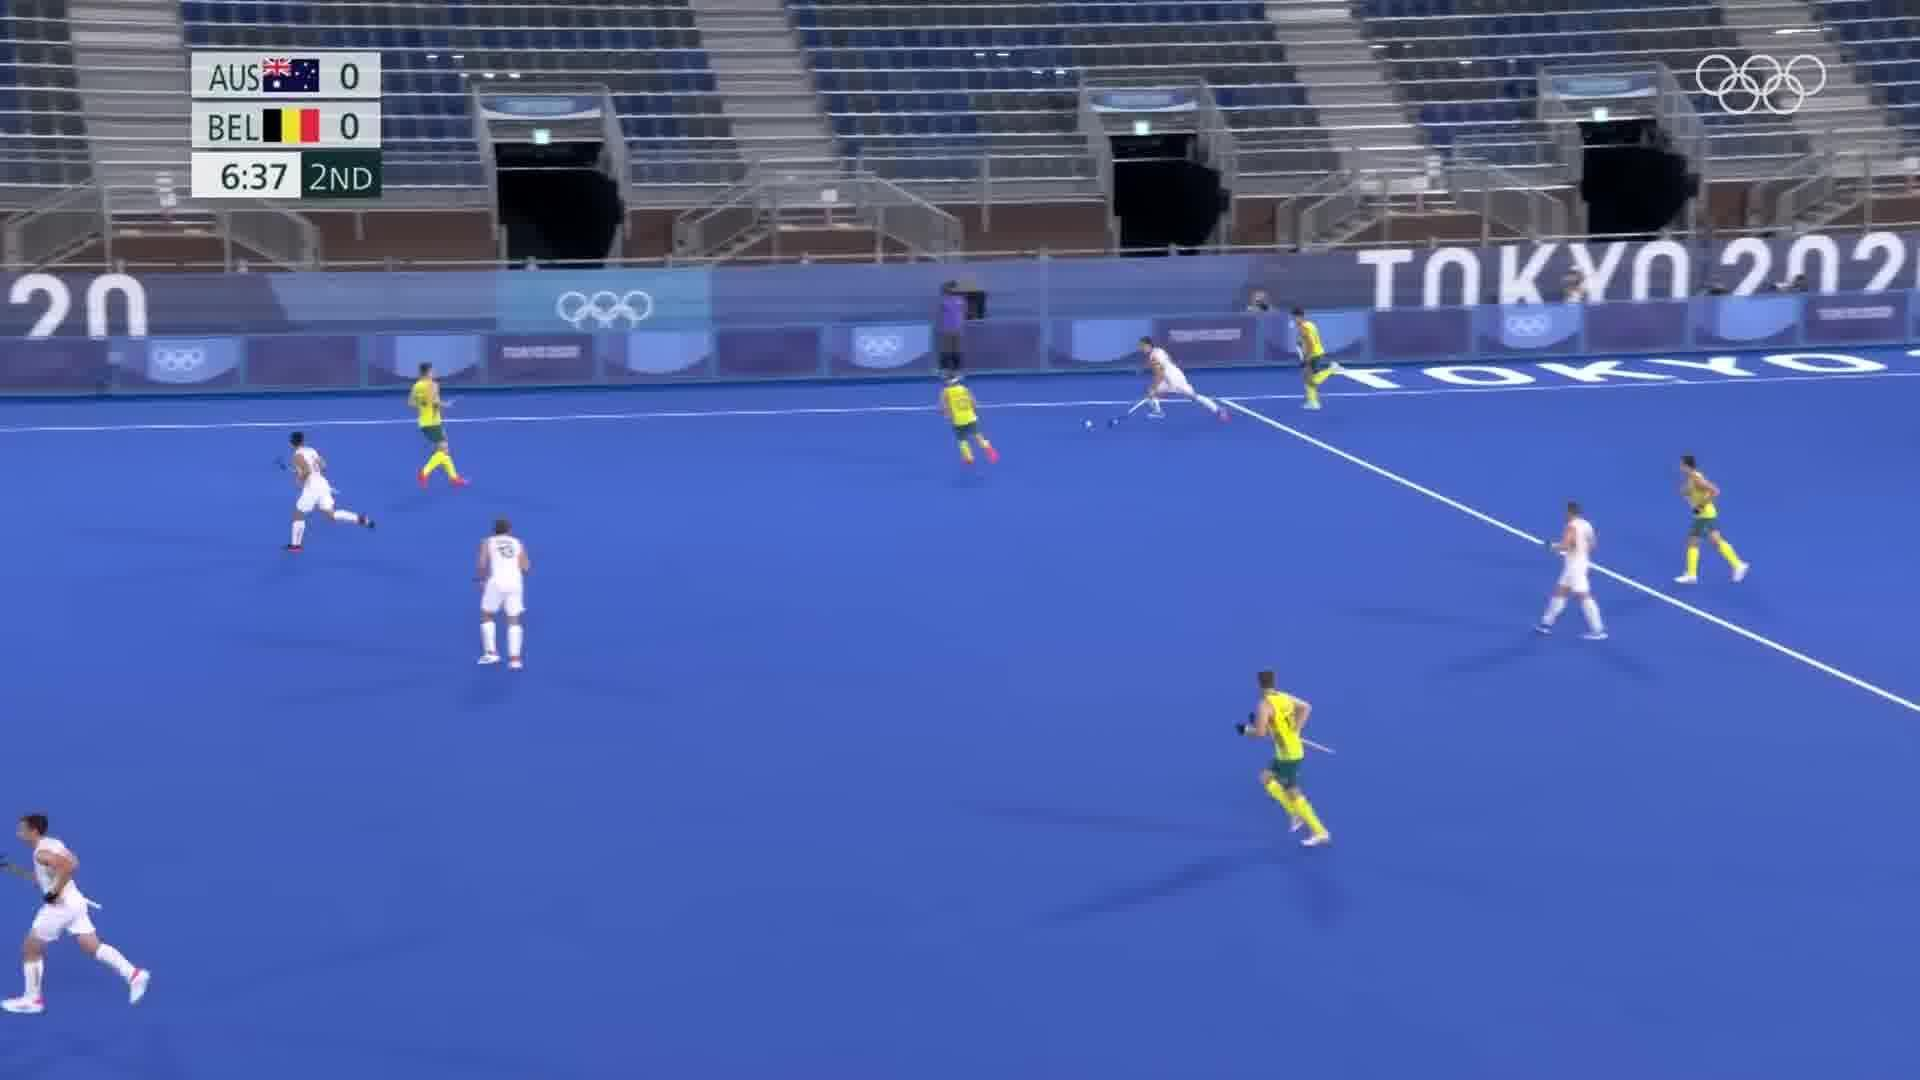ball: (1076, 415, 1098, 434)
